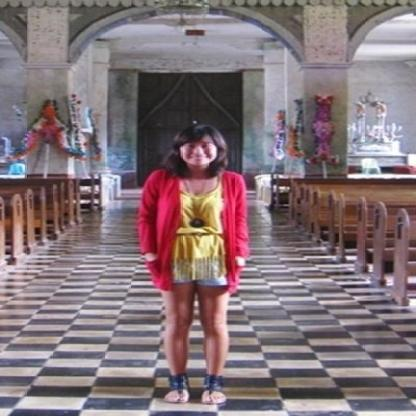jacket: (136, 170, 258, 290)
shirt: (172, 178, 226, 284)
shoe: (162, 368, 229, 395)
